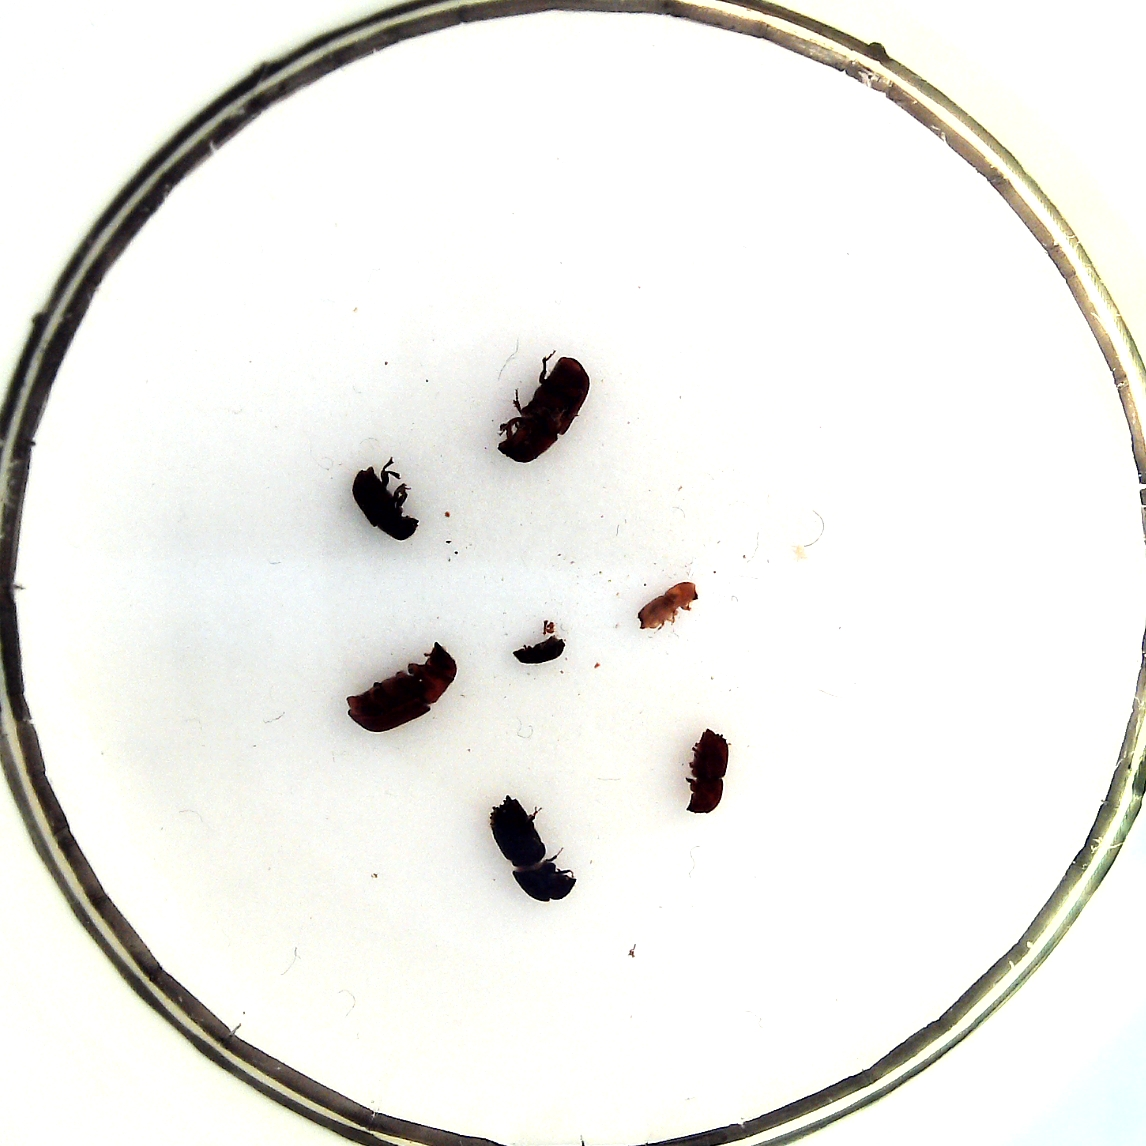Boerner: (490, 795, 576, 901)
Leconte: (347, 642, 458, 731), (498, 357, 591, 462)
acuminatus: (353, 467, 419, 542), (513, 636, 565, 664)
coleoptera: (638, 582, 698, 629)
linnaeus: (684, 727, 728, 814)
